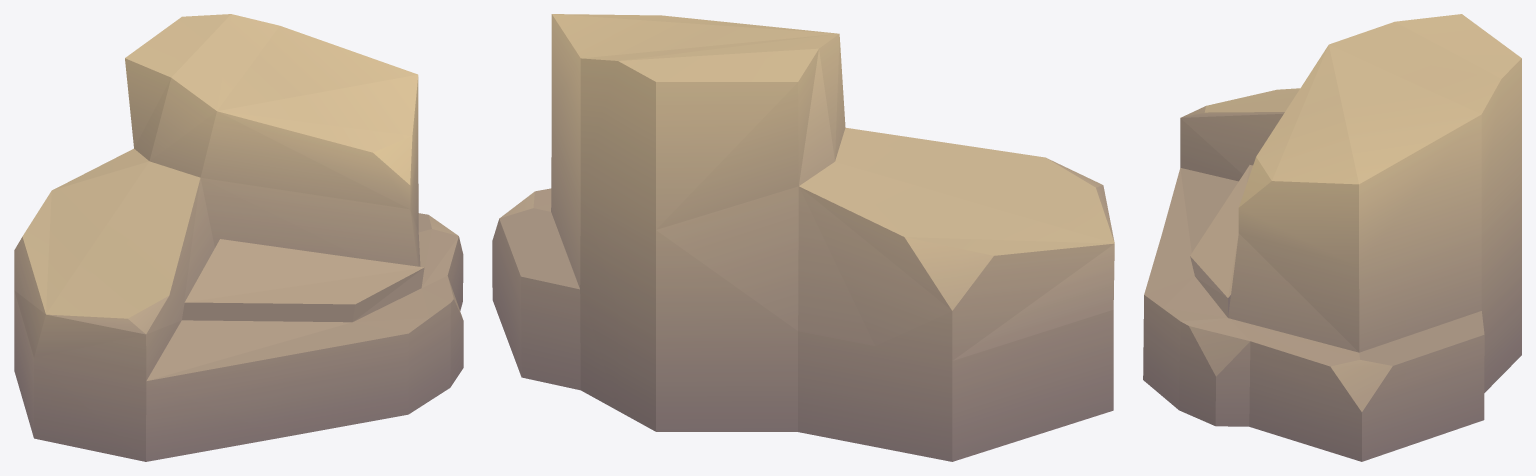
Rendered from rock-1.glb.
3 views of the same model, side by side, from view 1: azimuth 30°, elevation 25°; view 2: azimuth 150°, elevation 25°; view 3: azimuth 270°, elevation 25° (orthographic). The views are drawn at different scales.
Visible parts, largest first — view 1: Rock1; view 2: Rock1; view 3: Rock1.
Boxes of the visible parts, <box> form: Rock1: <box>14,14,463,461</box>; Rock1: <box>492,14,1114,461</box>; Rock1: <box>1143,14,1521,461</box>.
Size of the model in its own units: 6.01 by 3.47 by 4.01.
1 material, 1 textured.
